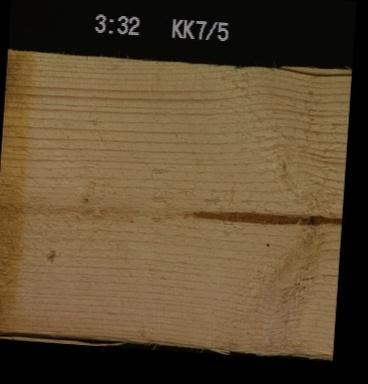small_knot: (257, 235, 275, 253), (81, 191, 92, 205)
split: (275, 68, 350, 78)
